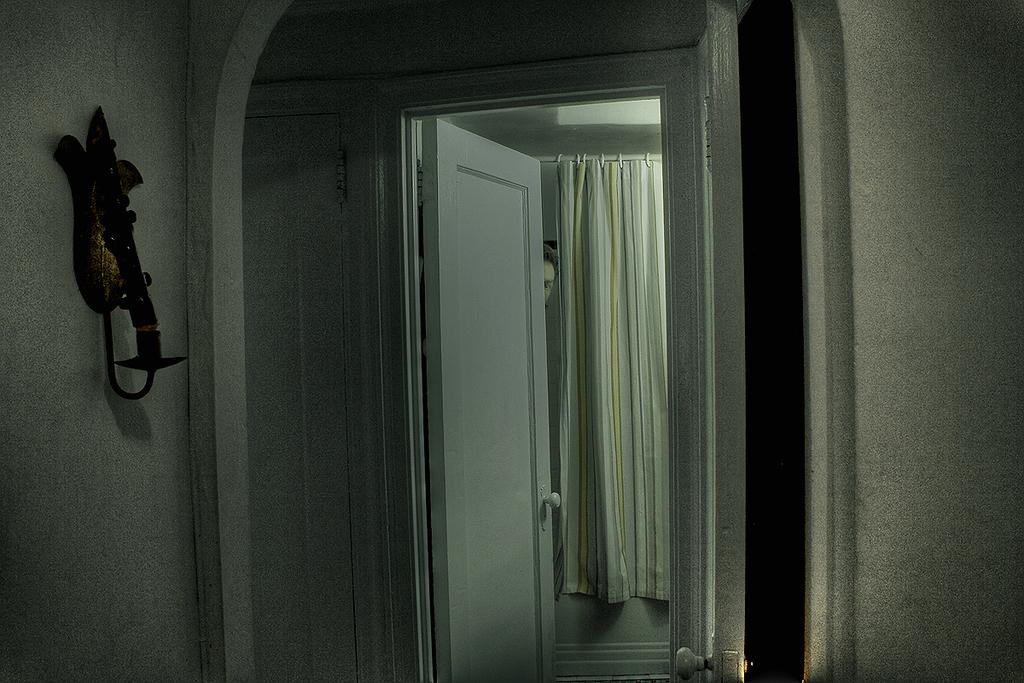handle: (674, 639, 714, 683), (530, 483, 560, 528)
